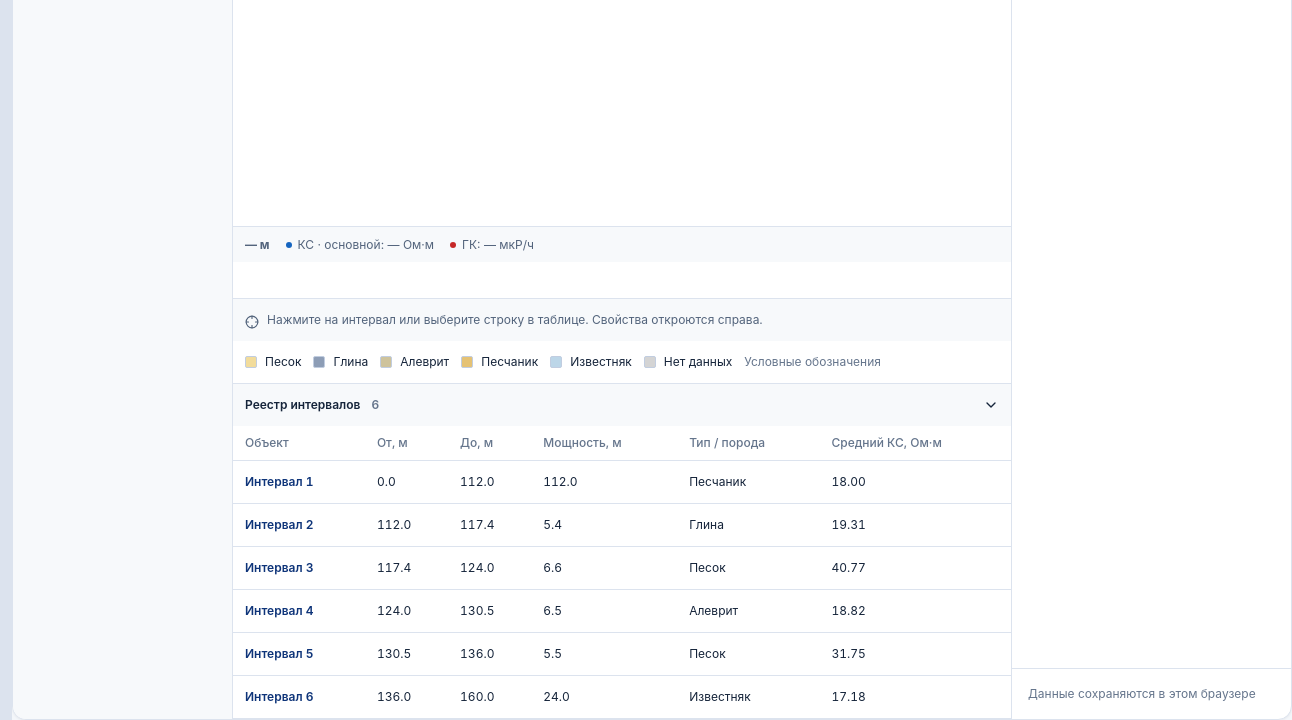
Test: interpretation prototype workbench › restricts editing by permission and object status: {"reader":true,"locked":false}
(page scrolled)
Click the button "Интервал 2": (279,525) [245, 512, 314, 538]
(page scrolled)
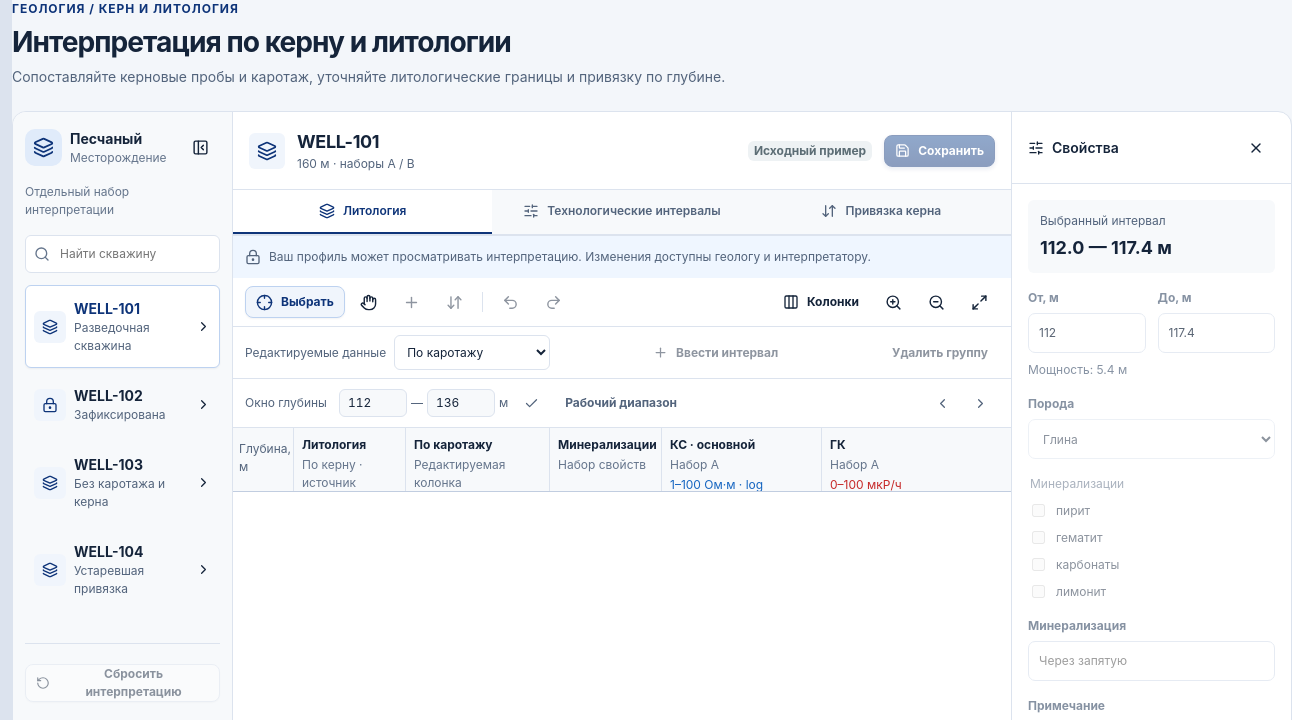
Expected: the button "Сохранить" is disabled, [884, 135, 995, 167]
Now the number field labelled "До, м" is disabled, box [1158, 313, 1275, 353]
